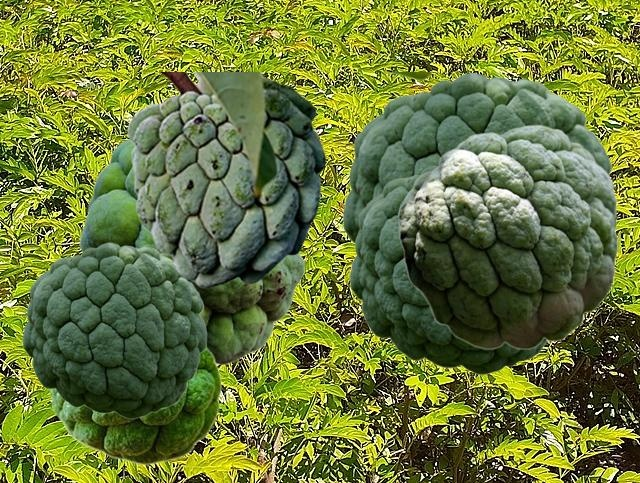atis: (126, 72, 431, 288), (79, 138, 304, 367), (342, 72, 616, 254), (397, 124, 618, 349), (349, 165, 547, 374), (22, 242, 206, 418), (46, 346, 221, 464)
